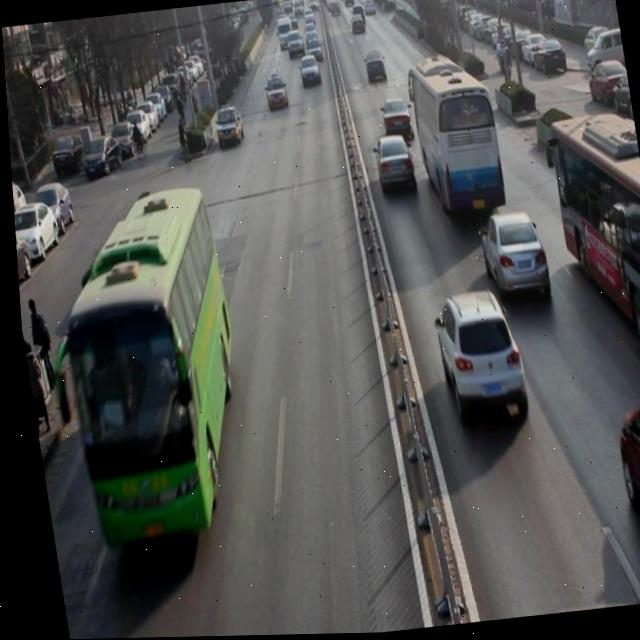car: (423, 287, 527, 432), (471, 202, 550, 307), (368, 131, 417, 199), (377, 97, 414, 144), (211, 103, 245, 150), (261, 75, 289, 113), (361, 50, 388, 85), (296, 54, 321, 91), (283, 29, 306, 61), (304, 38, 322, 64)
truck: (273, 16, 295, 50)
van: (41, 182, 254, 548), (544, 107, 640, 387), (403, 57, 505, 222)
